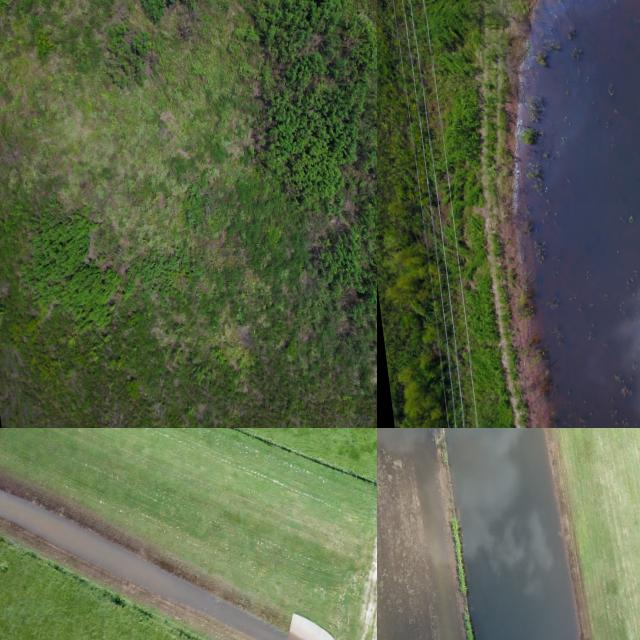fire: (515, 0, 640, 428), (0, 490, 287, 640), (445, 428, 579, 640)
